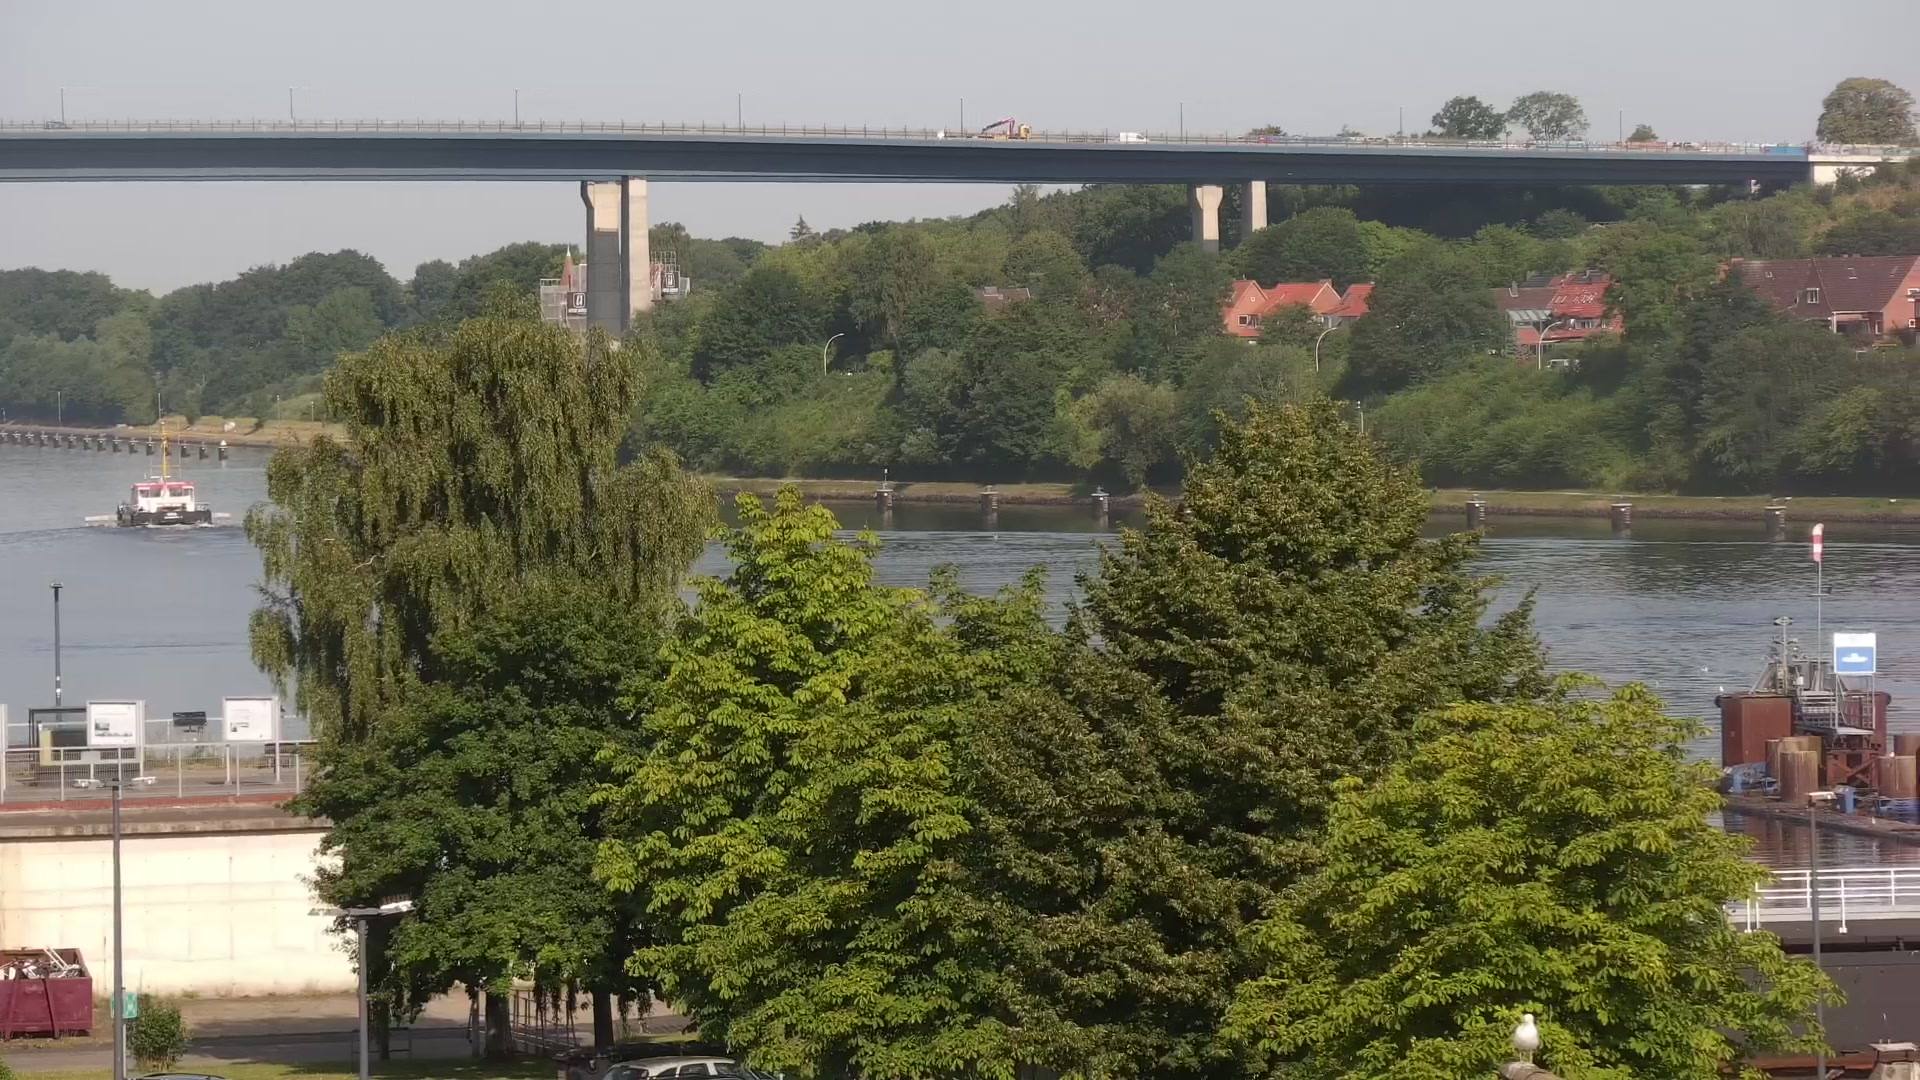land: (600, 1054, 769, 1079), (975, 115, 1033, 140), (1543, 357, 1581, 371), (1117, 129, 1149, 142)
sea: (109, 388, 212, 527)
